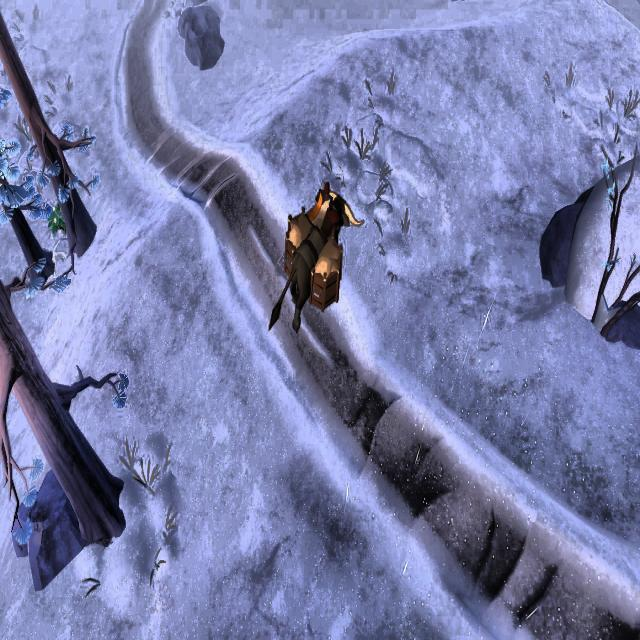fiber_t3: (48, 193, 70, 240)
